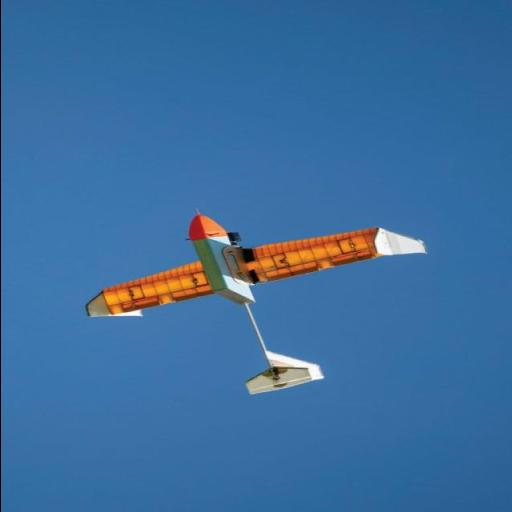uav: (65, 214, 436, 396)
